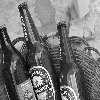beer: (1, 18, 34, 100)
